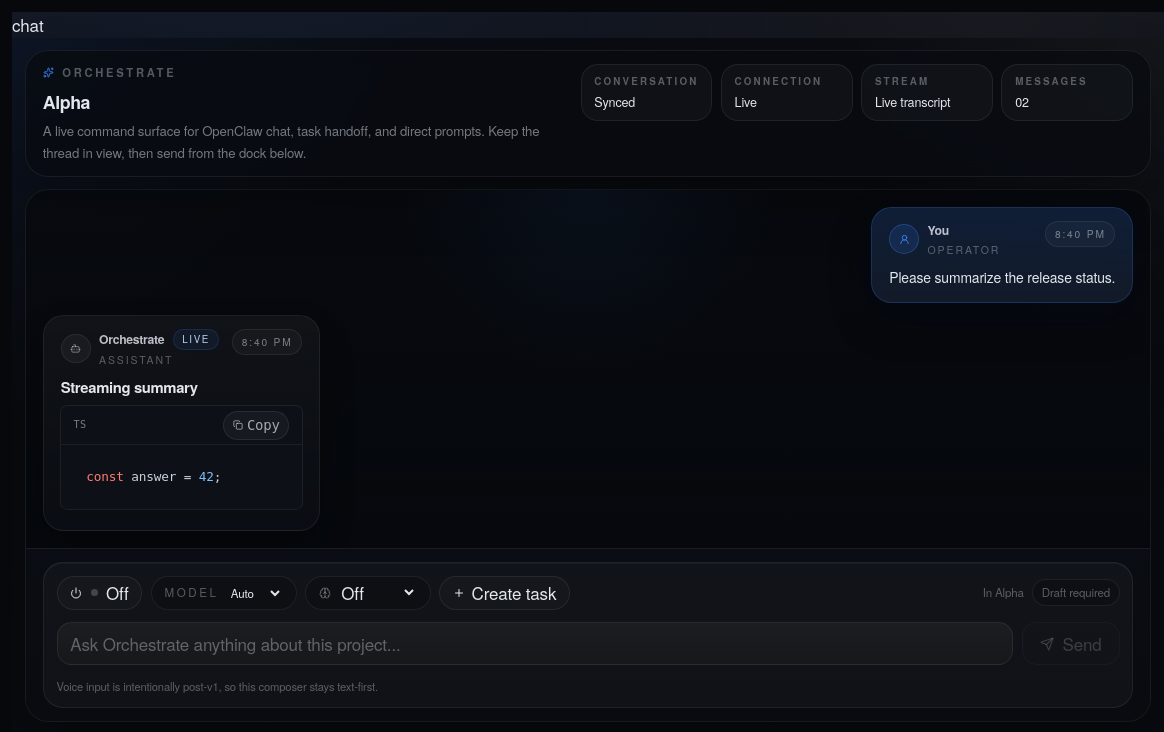
Test: ChatTab › opens the tasks tab from the quick action affordance
Expected: the heading "Streaming summary" is shown, [61, 376, 198, 398]
Click the button "Create task" at (505, 593), box [440, 576, 570, 610]
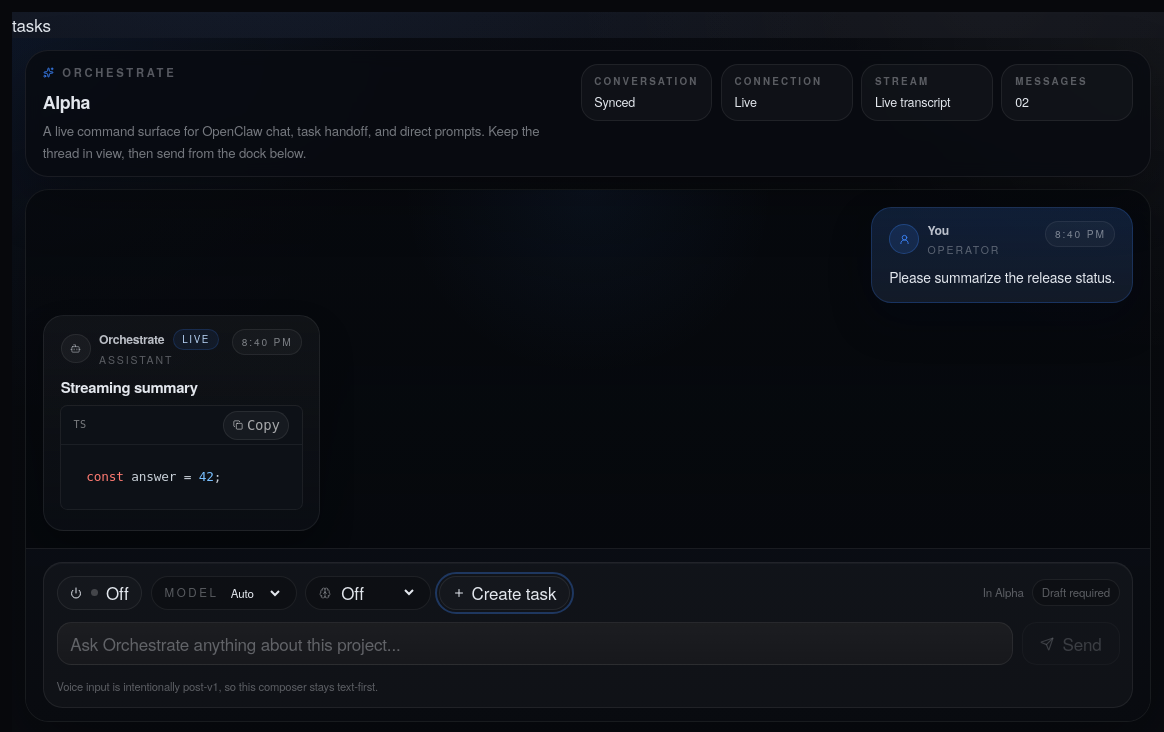
Expected: the text with test id "tab-state" reads "tasks", [12, 12, 51, 37]
